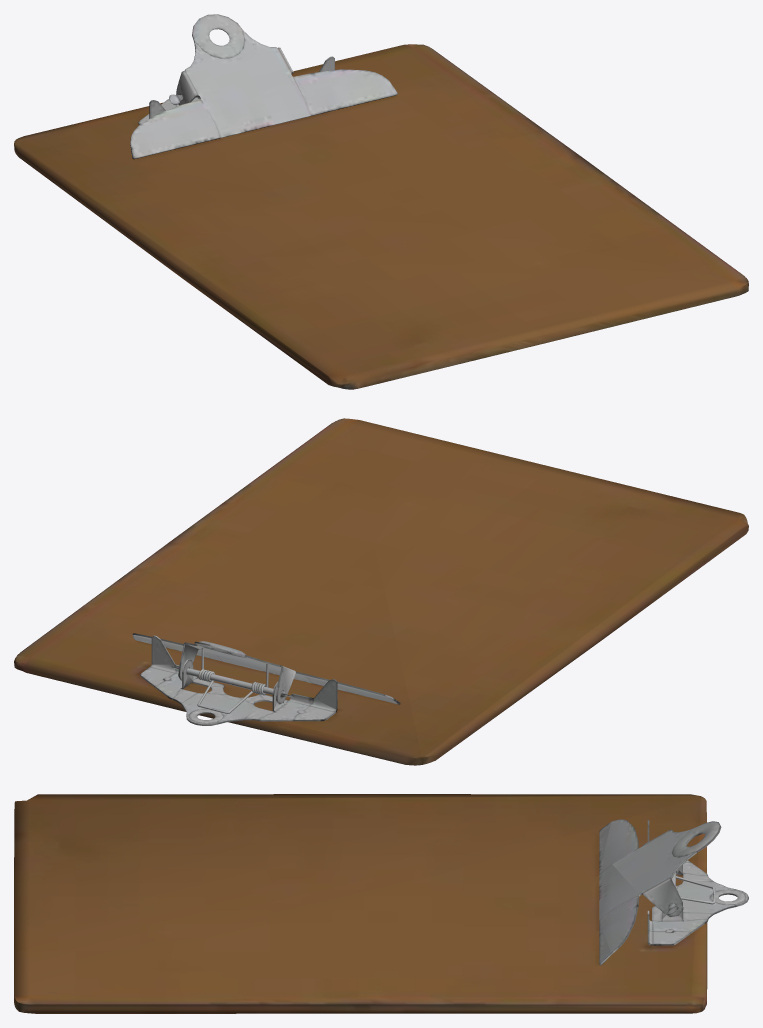
File: cartellina.glb
3 views of the same model, one above another, from view 1: azimuth 30°, elevation 25°; view 2: azimuth 150°, elevation 25°; view 3: azimuth 270°, elevation 25° (orthographic). The views are drawn at different scales.
Visible parts, largest first — view 1: clipboard; view 2: clipboard; view 3: clipboard.
Boxes of the visible parts, x1,y1,x2,y2 form: clipboard: [14, 14, 748, 389]; clipboard: [14, 418, 748, 765]; clipboard: [14, 794, 748, 1013].
Bounding box in the file's own units: 0.2285 × 0.042 × 0.3365.
Materials: 1 (1 with a texture image).
